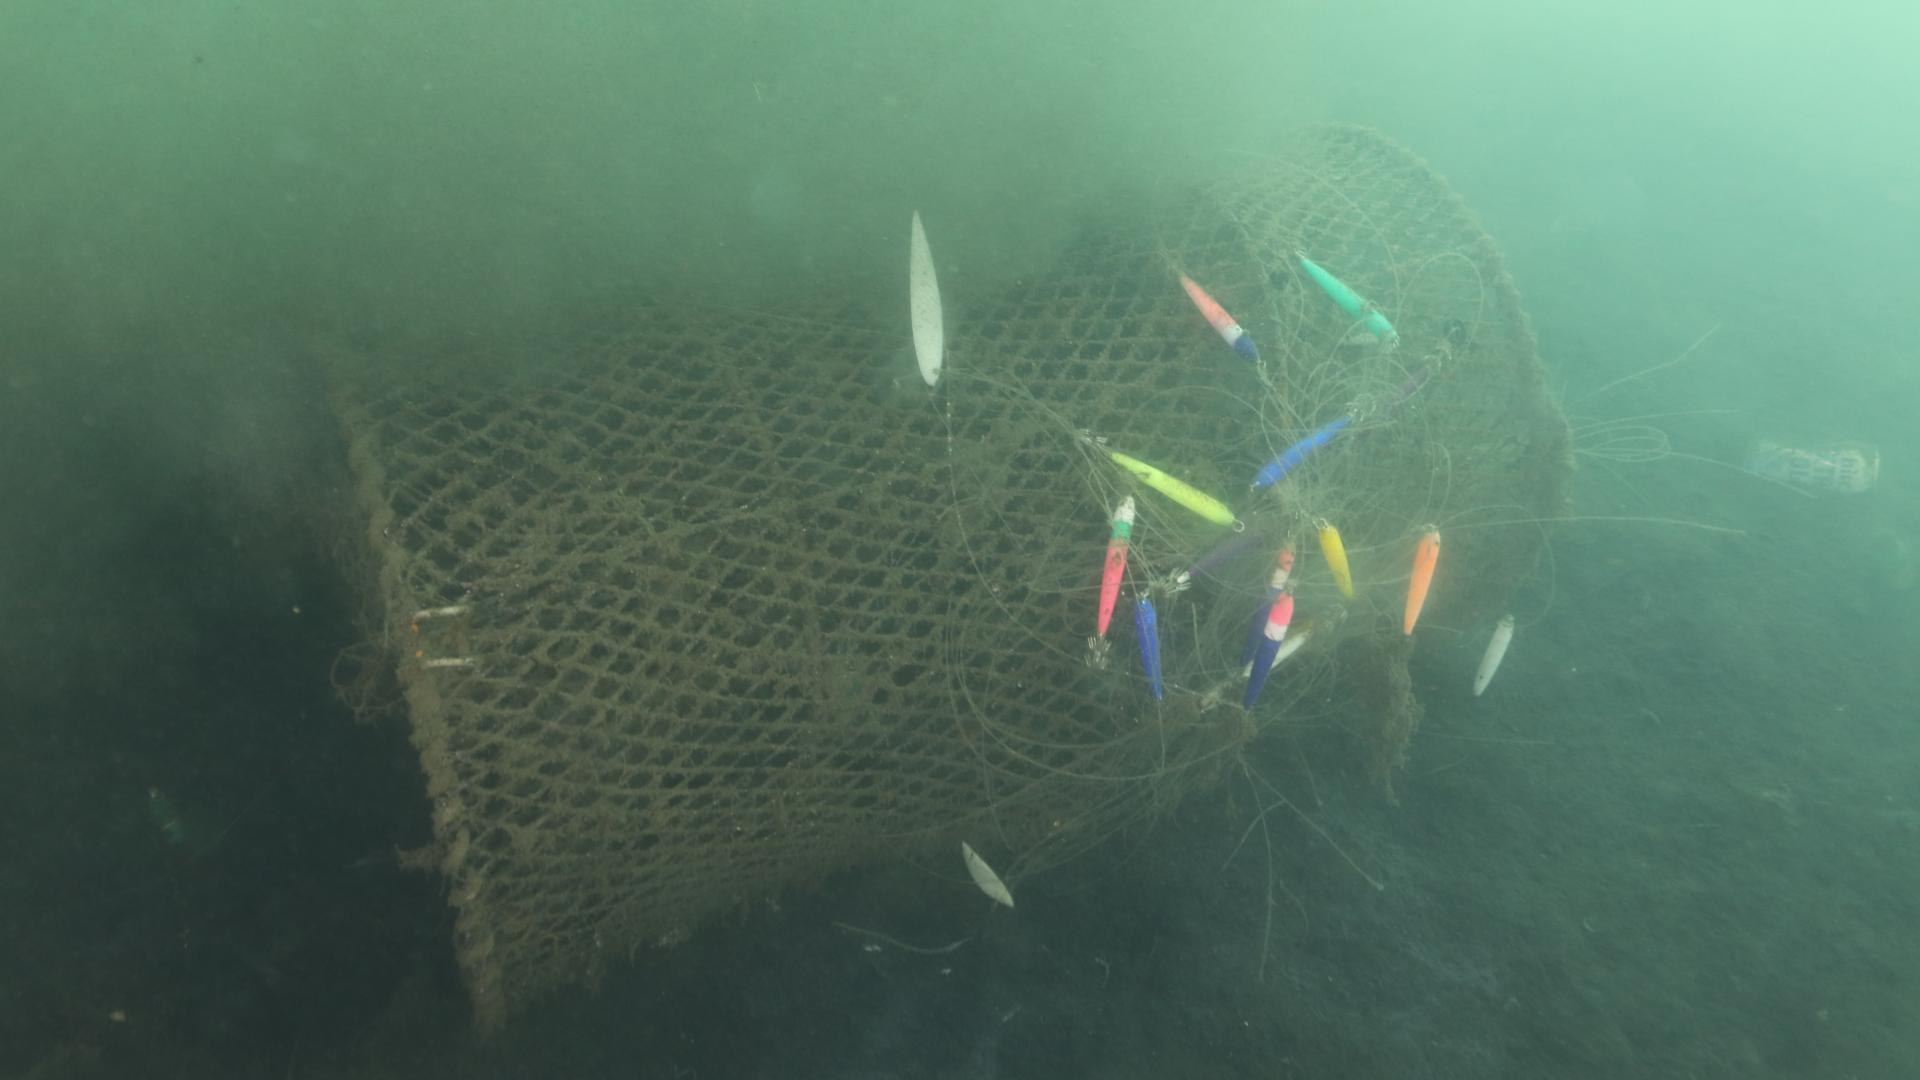spring fish trap: (313, 117, 1575, 1035)
